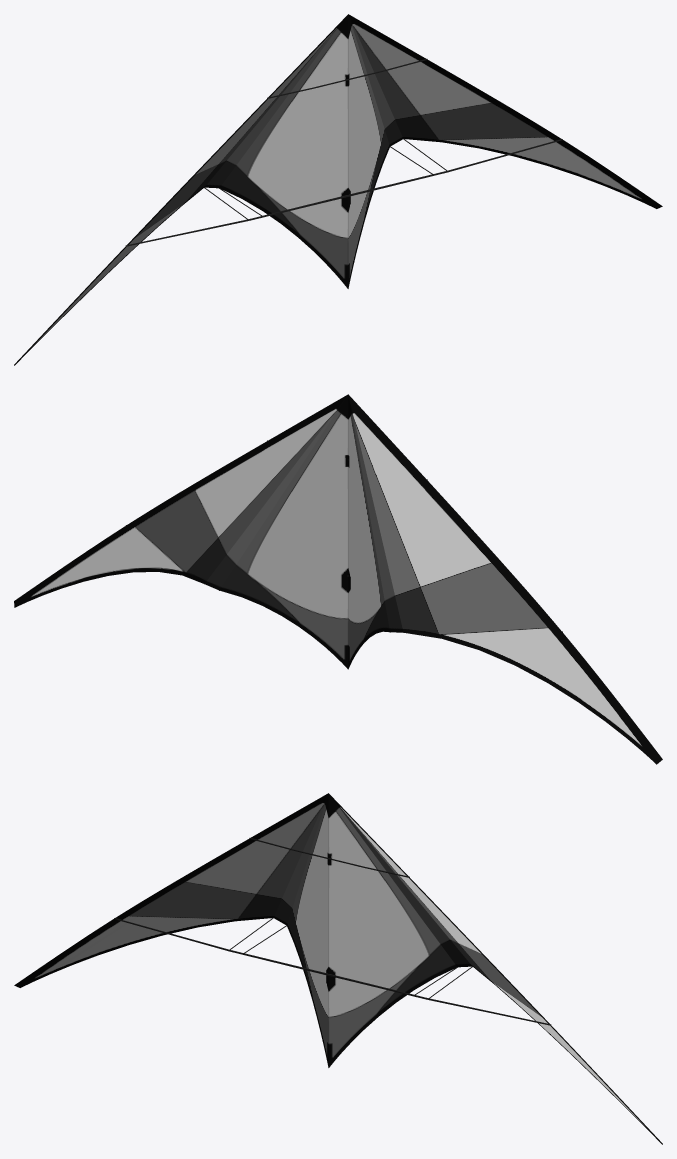
File: Alternate-2019.obj
3 renders of one model, top to bottom at view 1: azimuth 30°, elevation 25°; view 2: azimuth 150°, elevation 25°; view 3: azimuth 330°, elevation 25°, orthographic.
Bounding box in the file's own units: 2280 × 949 × 272.
Materials: 3 (2 with a texture image).
